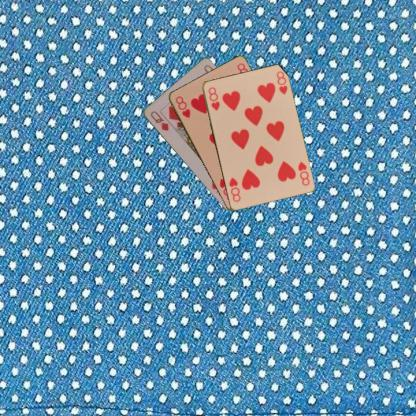8h: (173, 93, 191, 120), (295, 159, 311, 187), (206, 84, 220, 112)
Qd: (147, 108, 170, 132)
